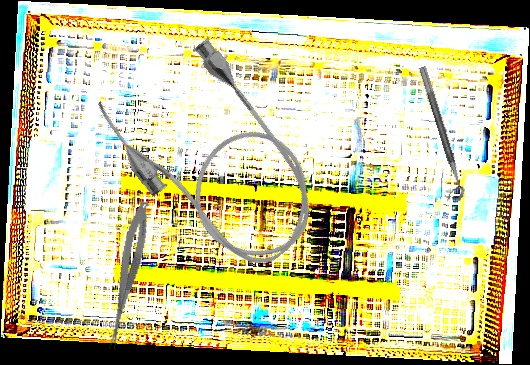Cannula: (86, 24, 342, 296)
Fixation Ring: (407, 65, 468, 205)
Micro Scissor: (103, 199, 154, 352)
